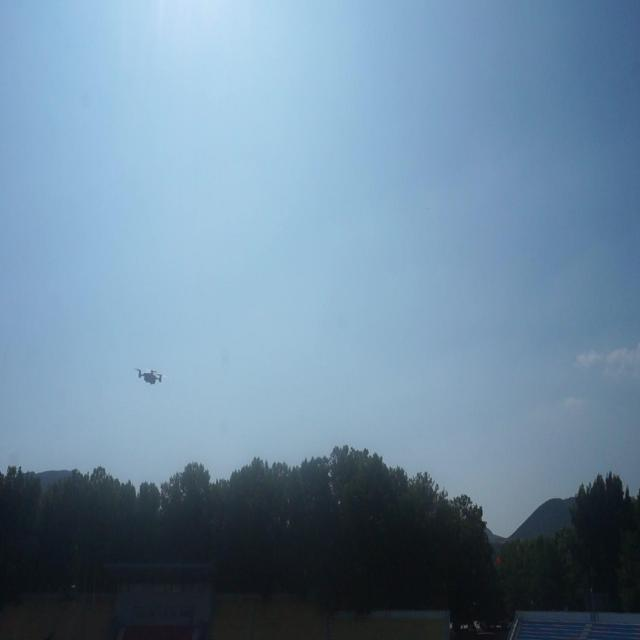UAV: (135, 366, 166, 384)
